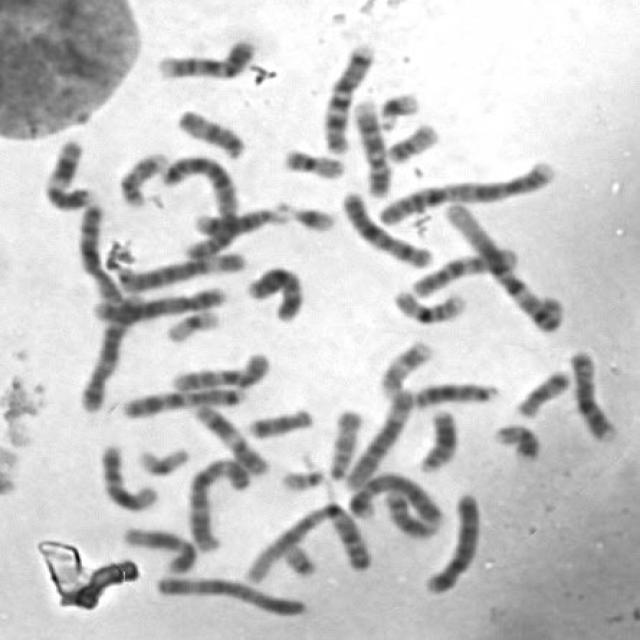A1: (437, 196, 568, 334), (239, 498, 375, 584)
A2: (372, 153, 561, 227), (155, 150, 242, 260)
A3: (147, 568, 309, 620), (184, 451, 255, 554)
B4: (418, 486, 484, 596), (349, 470, 442, 528)
B5: (73, 285, 148, 413), (85, 280, 230, 323)
C10: (402, 240, 520, 299), (165, 346, 275, 392)
C11: (188, 396, 272, 478), (37, 133, 101, 212)
C12: (94, 438, 161, 513), (116, 520, 200, 576)
C6: (341, 382, 417, 492), (114, 244, 250, 292)
C7: (316, 36, 378, 156), (116, 382, 249, 421)
C8: (72, 197, 129, 304), (564, 344, 620, 444)
C9: (151, 32, 260, 82), (347, 92, 394, 198)
D13: (412, 403, 462, 473), (407, 375, 502, 410)
D14: (188, 198, 295, 238), (387, 485, 449, 545)
D15: (171, 102, 250, 160), (322, 403, 365, 482)
E16: (386, 282, 470, 326), (488, 424, 544, 460)
E17: (374, 333, 437, 400), (112, 145, 170, 208)
E18: (509, 364, 574, 419), (240, 402, 316, 441)
F19: (160, 303, 223, 345), (131, 441, 193, 478)
F20: (381, 116, 443, 164), (282, 148, 349, 183)
G21: (371, 85, 423, 131), (282, 197, 339, 233)
G22: (276, 537, 319, 578), (275, 461, 329, 492)
X: (337, 184, 437, 269), (240, 259, 308, 323)
